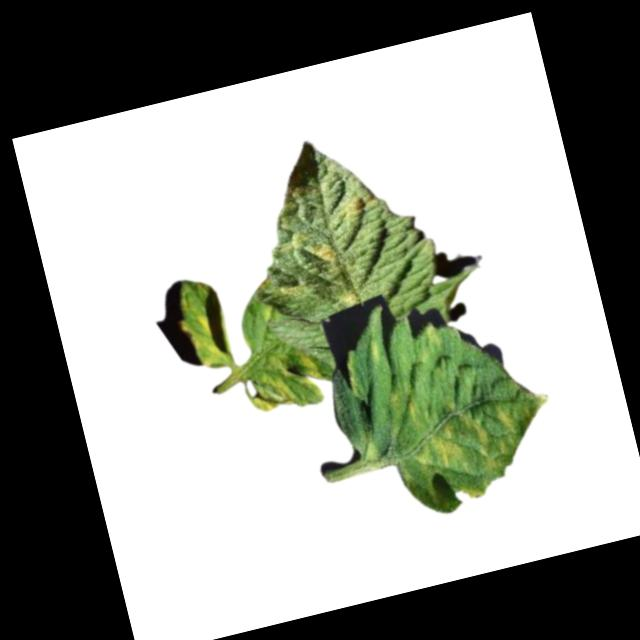Leaf_Mold: (386, 354, 568, 513), (234, 346, 327, 420), (173, 277, 235, 376), (334, 188, 380, 224), (298, 235, 341, 270), (334, 286, 360, 308)
